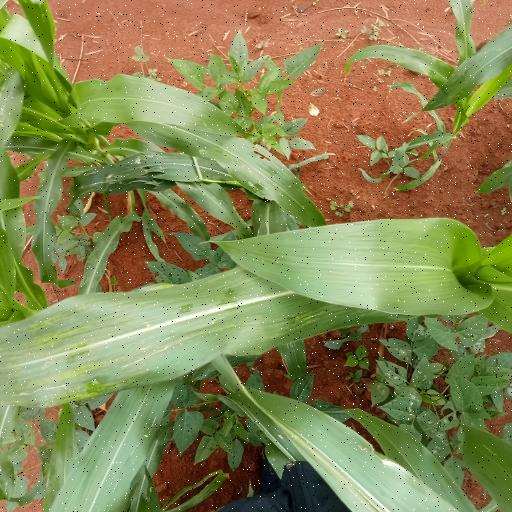Corn_Brown_Spots: (9, 273, 346, 405), (246, 221, 512, 327)
